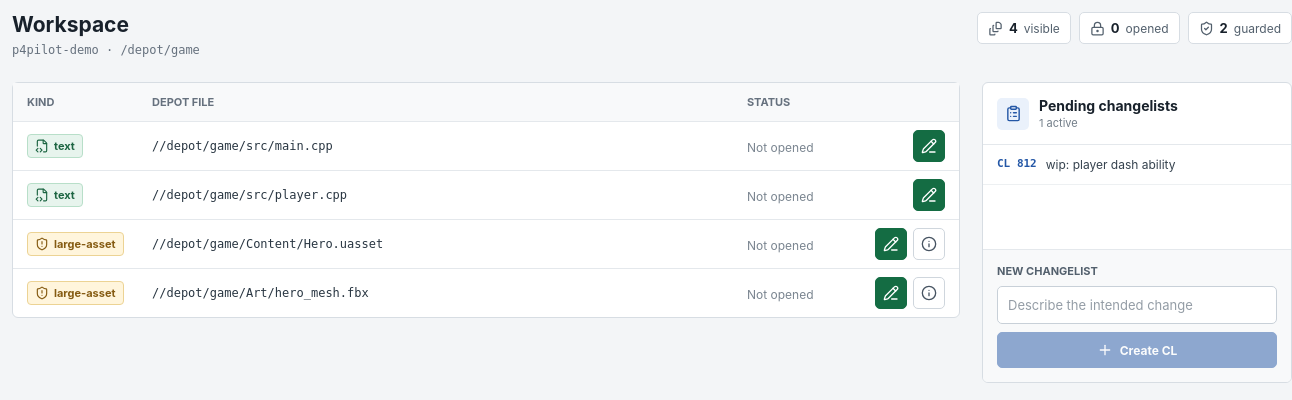
Scenario: Dashboard › creates a changelist
The width and height of the screenshot is (1292, 400).
Type "dash tuning" into the field labelled "New changelist".
click(1137, 305); type("dash tuning")  # box [997,286,1277,324]
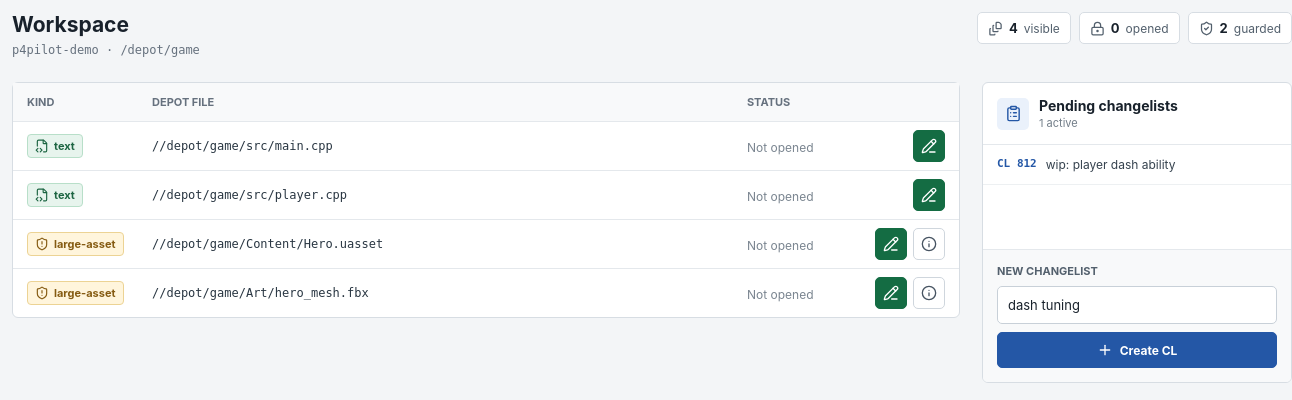
Click the button "Create CL".
click(1137, 350)  # box [997,332,1277,368]
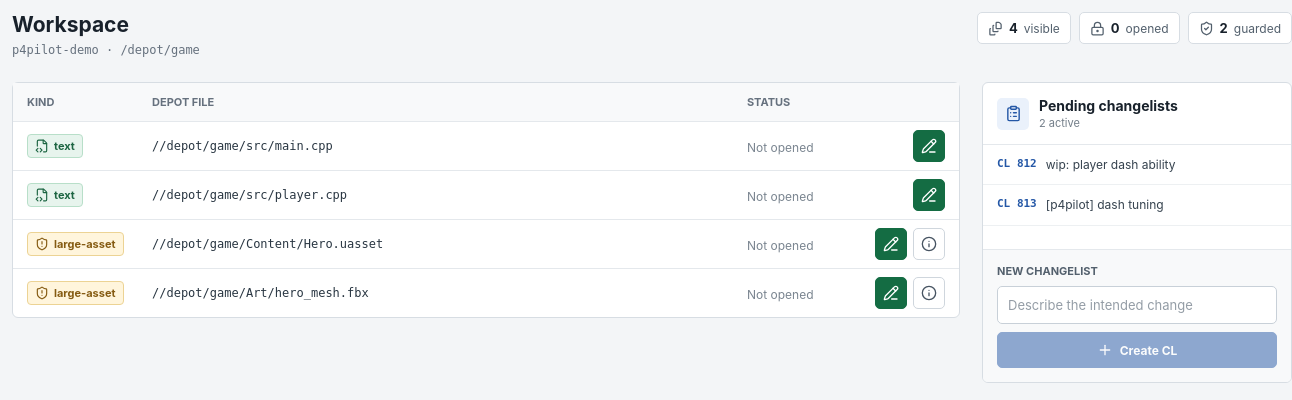
Check: the text "[p4pilot] dash tuning" is shown, box [1046,197,1164,212]
